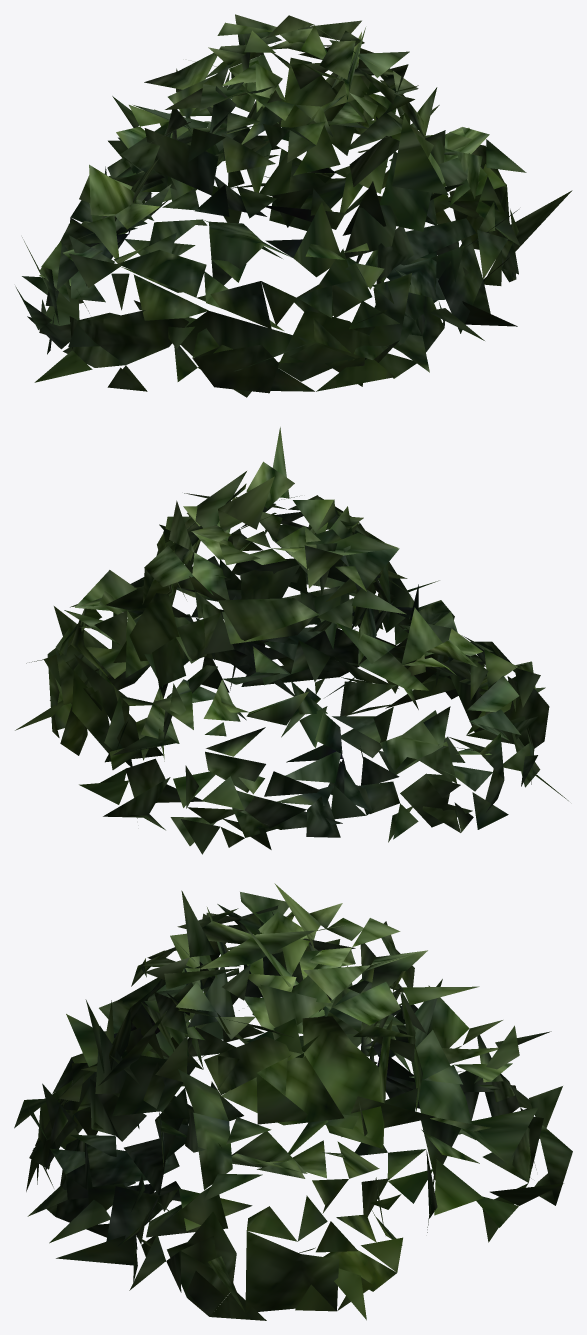
File: bush-2.lod1.glb
The picture shows the model from 3 angles, top to bottom: view 1: azimuth 30°, elevation 25°; view 2: azimuth 150°, elevation 25°; view 3: azimuth 270°, elevation 25°; orthographic projection. The views are drawn at different scales.
Parts seen in each view (by area): view 1: terrain-bush-2; view 2: terrain-bush-2; view 3: terrain-bush-2.
Boxes of the visible parts, x1,y1,x2,y2 form: terrain-bush-2: (15,14,572,397); terrain-bush-2: (15,427,568,854); terrain-bush-2: (14,883,572,1320).
Size of the model in its own units: 0.4263 by 0.235 by 0.3401.
1 material, 1 textured.
